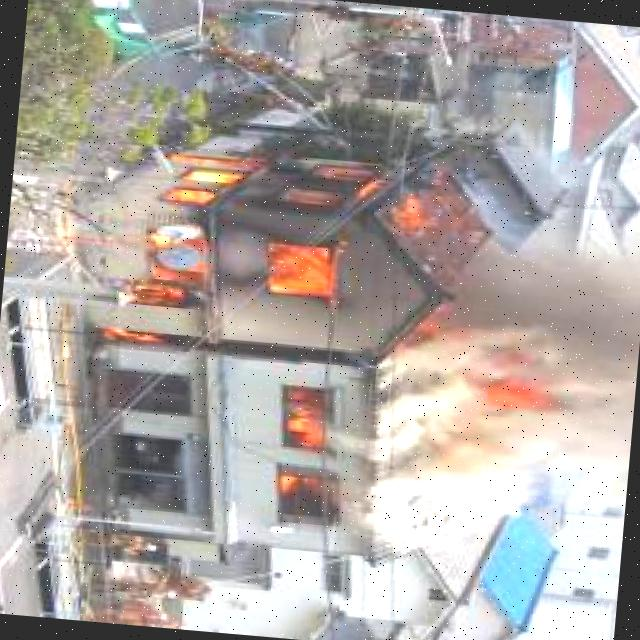fire: (118, 119, 482, 349), (442, 361, 590, 491), (268, 386, 339, 522)
